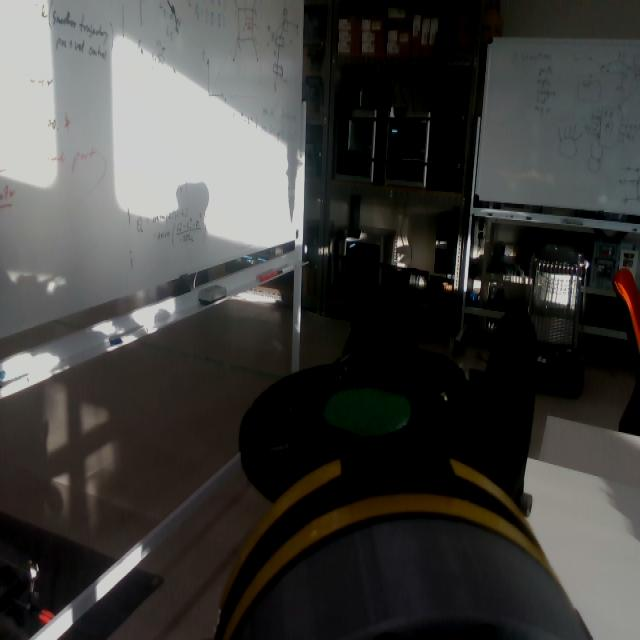body_connector: (234, 516, 593, 640)
connection: (212, 447, 594, 640)
leg: (213, 288, 554, 640)
leg_connector: (214, 447, 555, 640)
marker: (321, 385, 412, 439)
